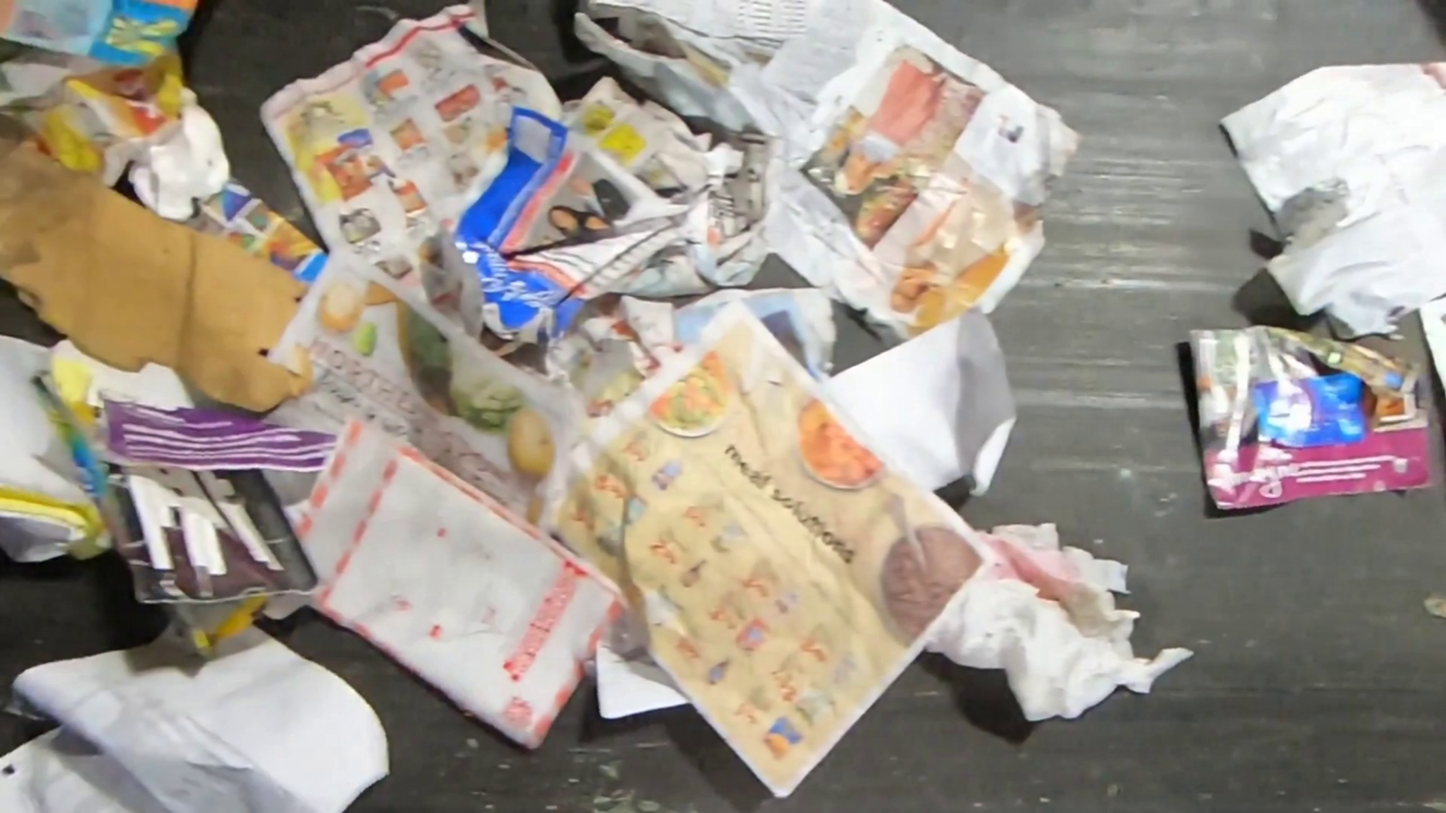cardboard: (285, 410, 635, 754), (0, 129, 314, 416), (39, 339, 200, 414)
